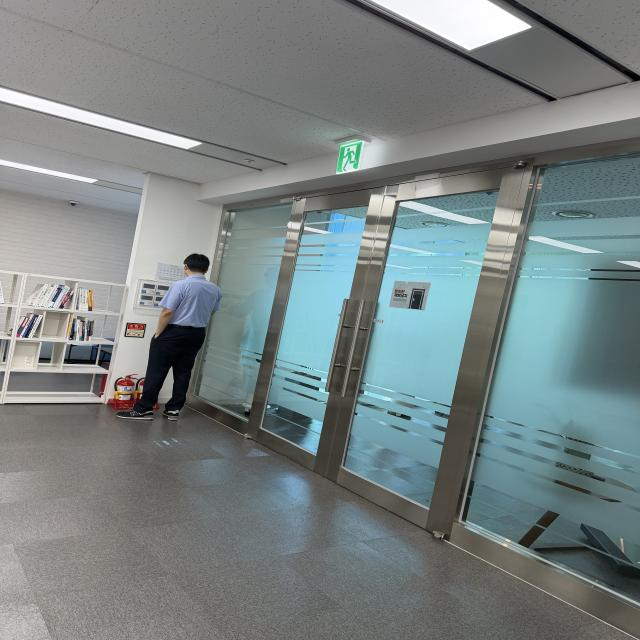front_door: (190, 145, 640, 635)
